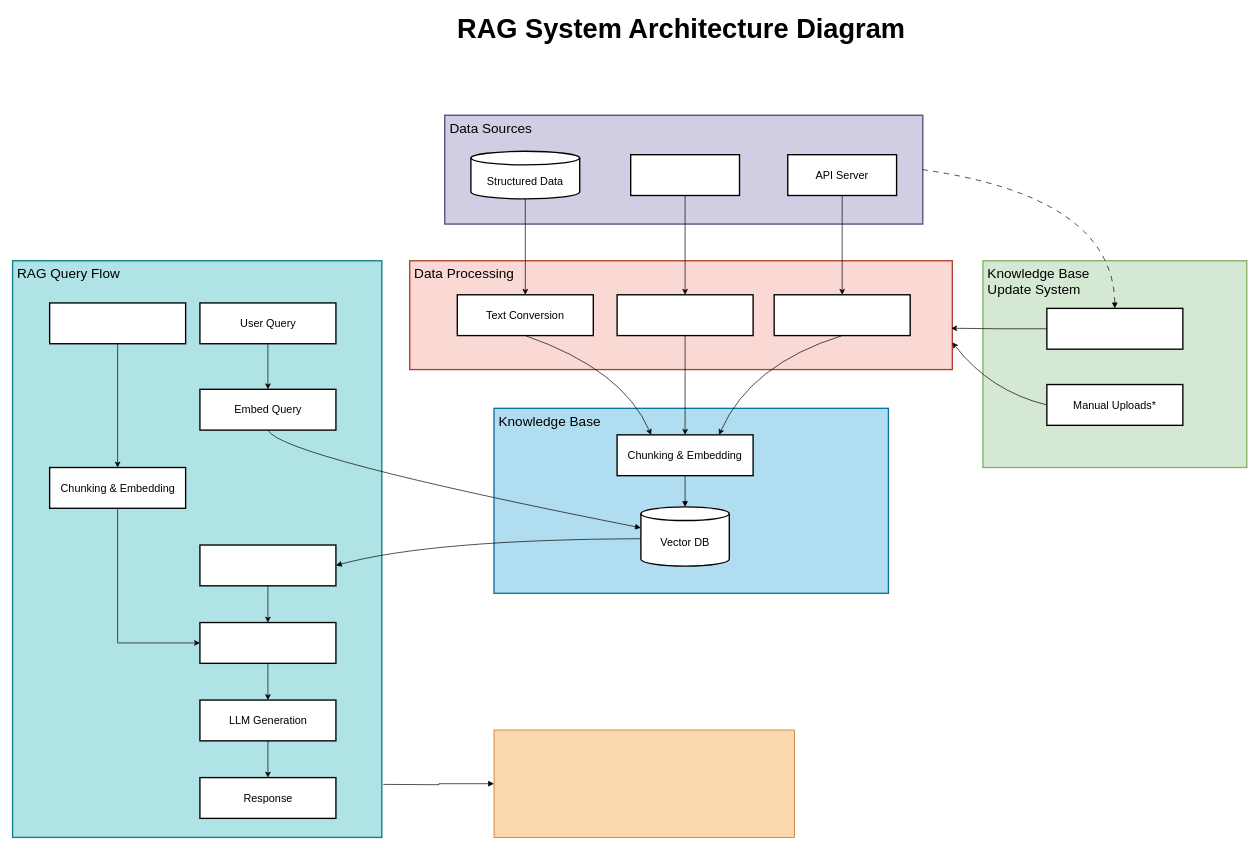
Image size: 1259x849. Some labels were removed from this diagram. The shapes that lost their labels are listed below. From the top down, each one's centre as x and y in pixels, then its label:
At pixel 685 175: "Document Files".
At pixel 117 323: "Session File Uploads".
At pixel 684 315: "Document Conversion".
At pixel 842 315: "API Response Parser".
At pixel 1114 328: "Update Monitor".
At pixel 267 565: "Retrieve Context".
At pixel 267 643: "Combine Contexts".
At pixel 644 783: "Huddle PDFs, Generate Voiceovers, Scenario Based Questions".
